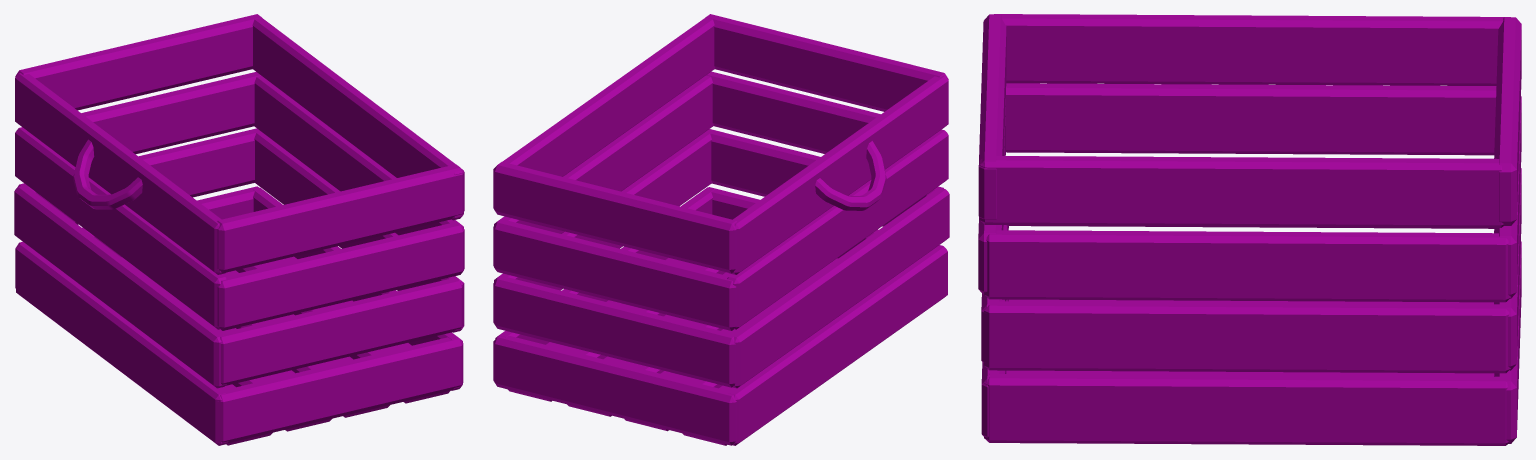
Rendered from SM_Nails.fbx.
3 views of the same model, side by side, from view 1: azimuth 30°, elevation 25°; view 2: azimuth 150°, elevation 25°; view 3: azimuth 270°, elevation 25° (orthographic). The views are drawn at different scales.
Parts seen in each view (by area): view 1: SM_Nails; view 2: SM_Nails; view 3: SM_Nails.
Part boxes in pixels (x1=…): SM_Nails: x1=14, y1=14, x2=464, y2=445; SM_Nails: x1=493, y1=14, x2=949, y2=445; SM_Nails: x1=978, y1=14, x2=1521, y2=445.
Size of the model in its own units: 24.47 by 32.34 by 18.87.
1 material, 1 textured.
